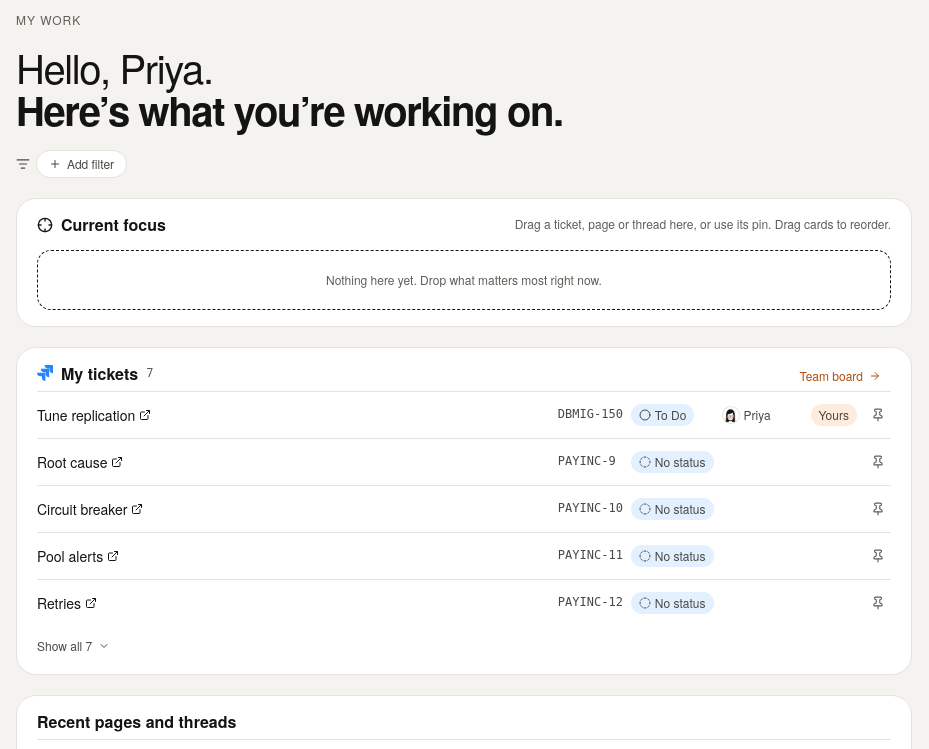
Scenario: filters tickets to the person's own
Check: the text "Yours" is shown, box [811,404,857,426]
Step 1. Click the button "Add filter" → [82, 164], box [36,150,127,178]
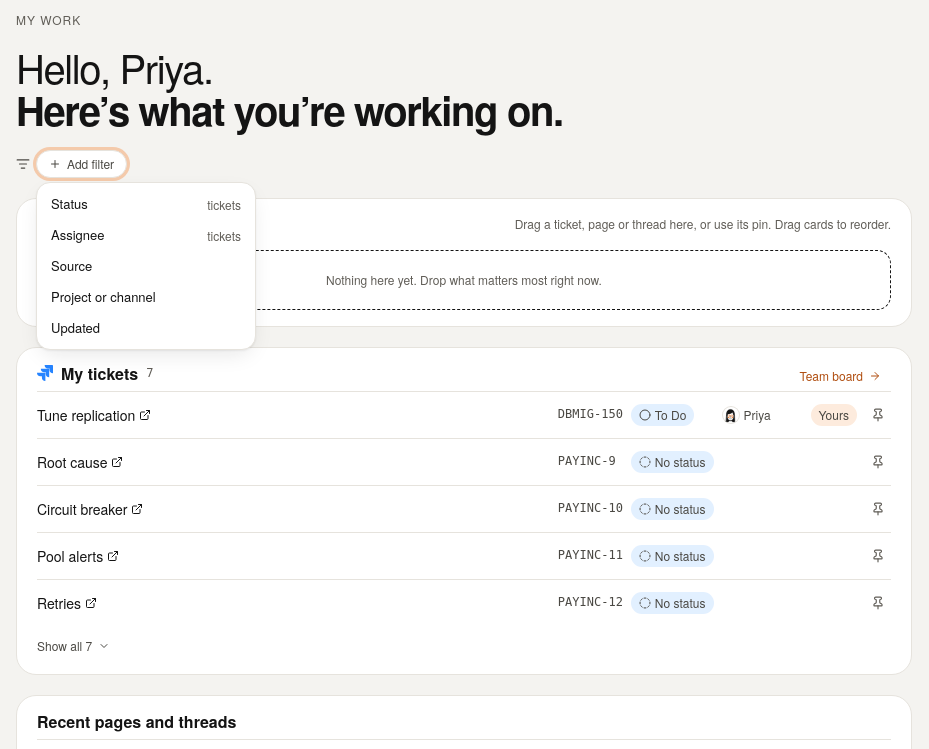
Step 2. Click the button "Assignee tickets" → [146, 235], box [43,220,249,251]
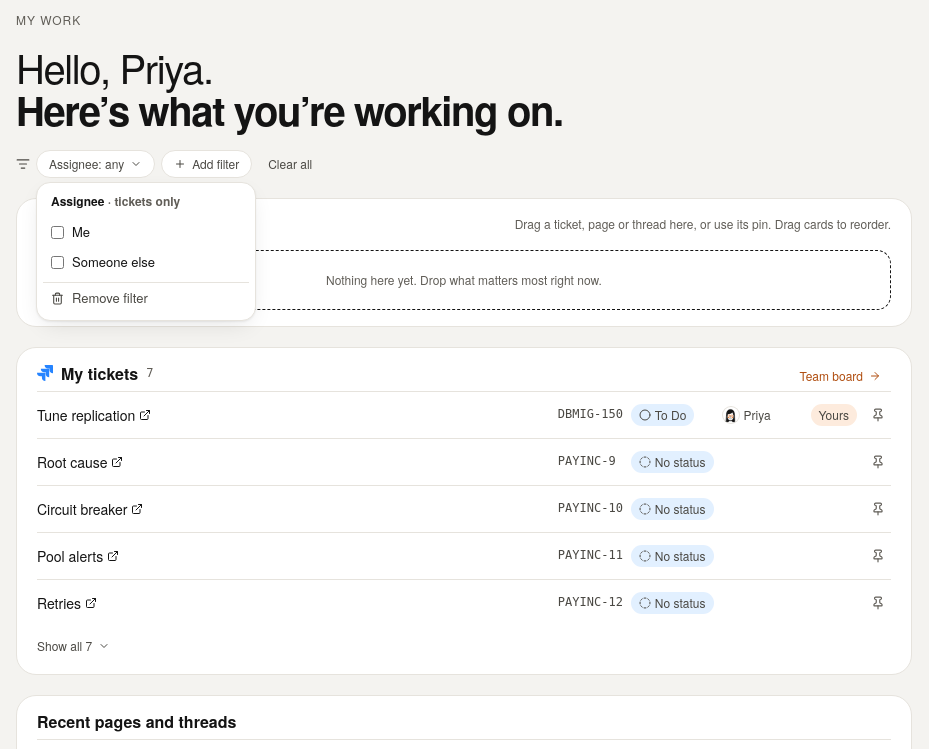
Step 3. Click the checkbox labelled "Me" → [58, 232], box [51,226,64,238]
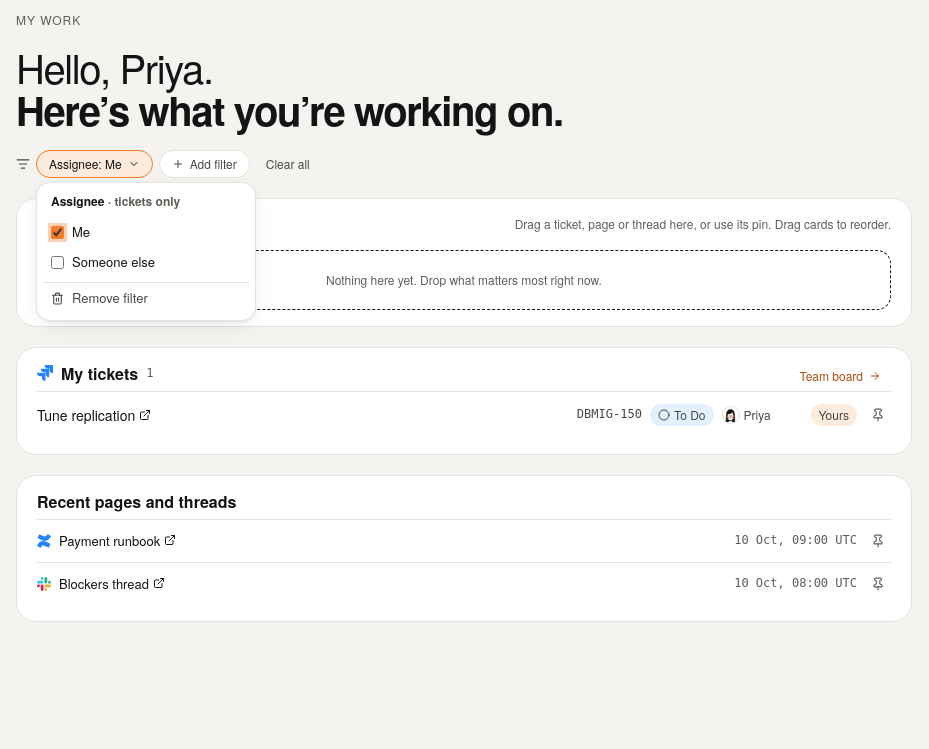
Step 4. Press Escape
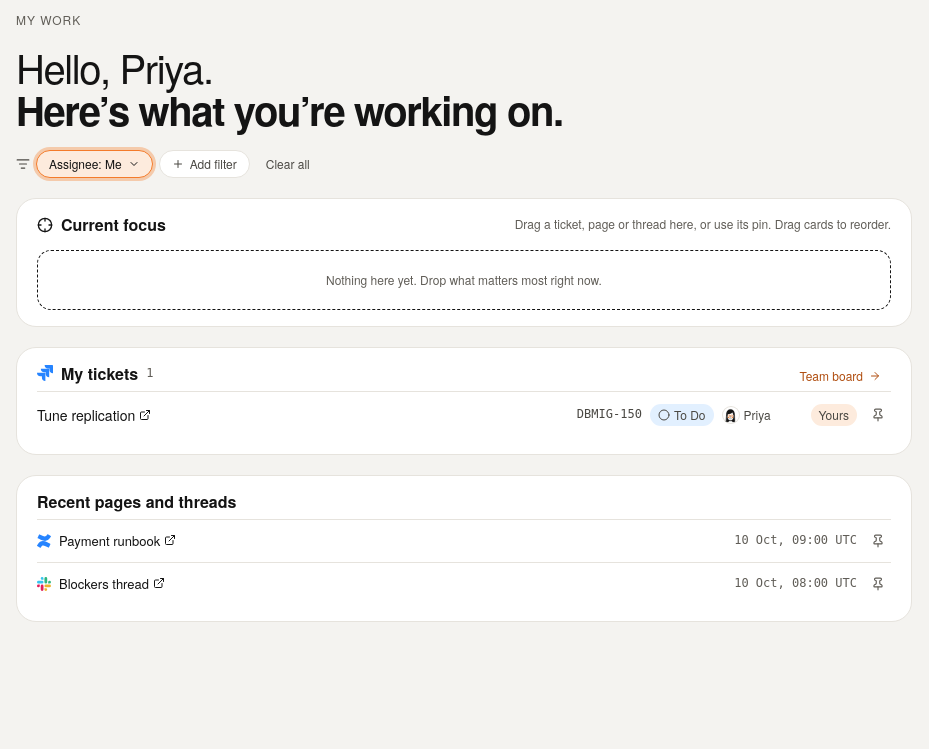
Check: the checkbox is gone
